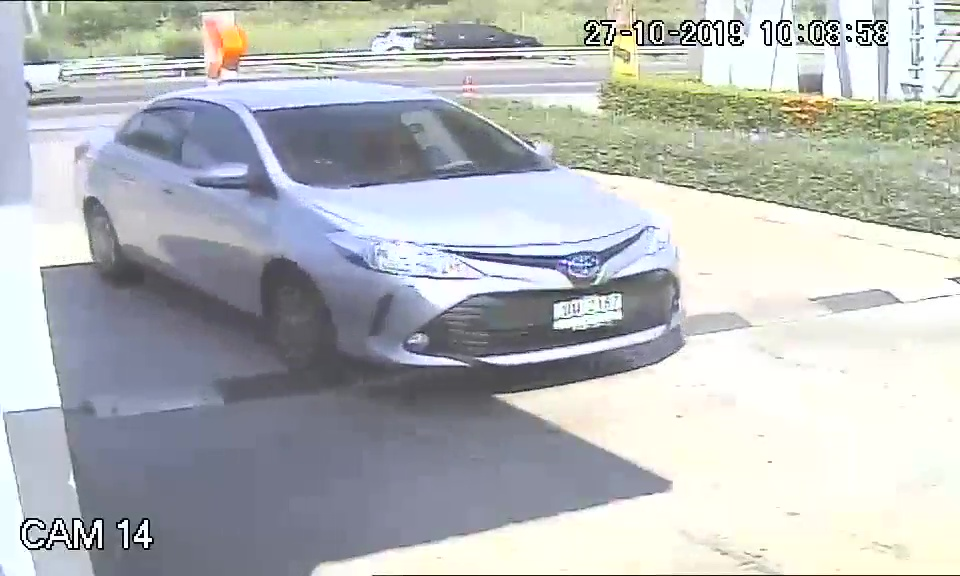sedan: (70, 70, 690, 386)
